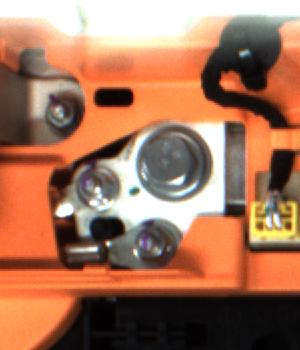nut_b: (134, 121, 217, 204)
